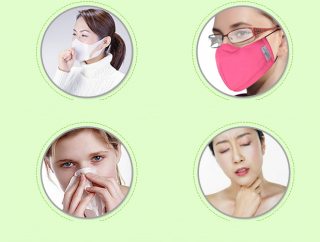face: (52, 143, 117, 208), (212, 132, 262, 185)
face_mask: (210, 21, 278, 93), (70, 25, 98, 61)
